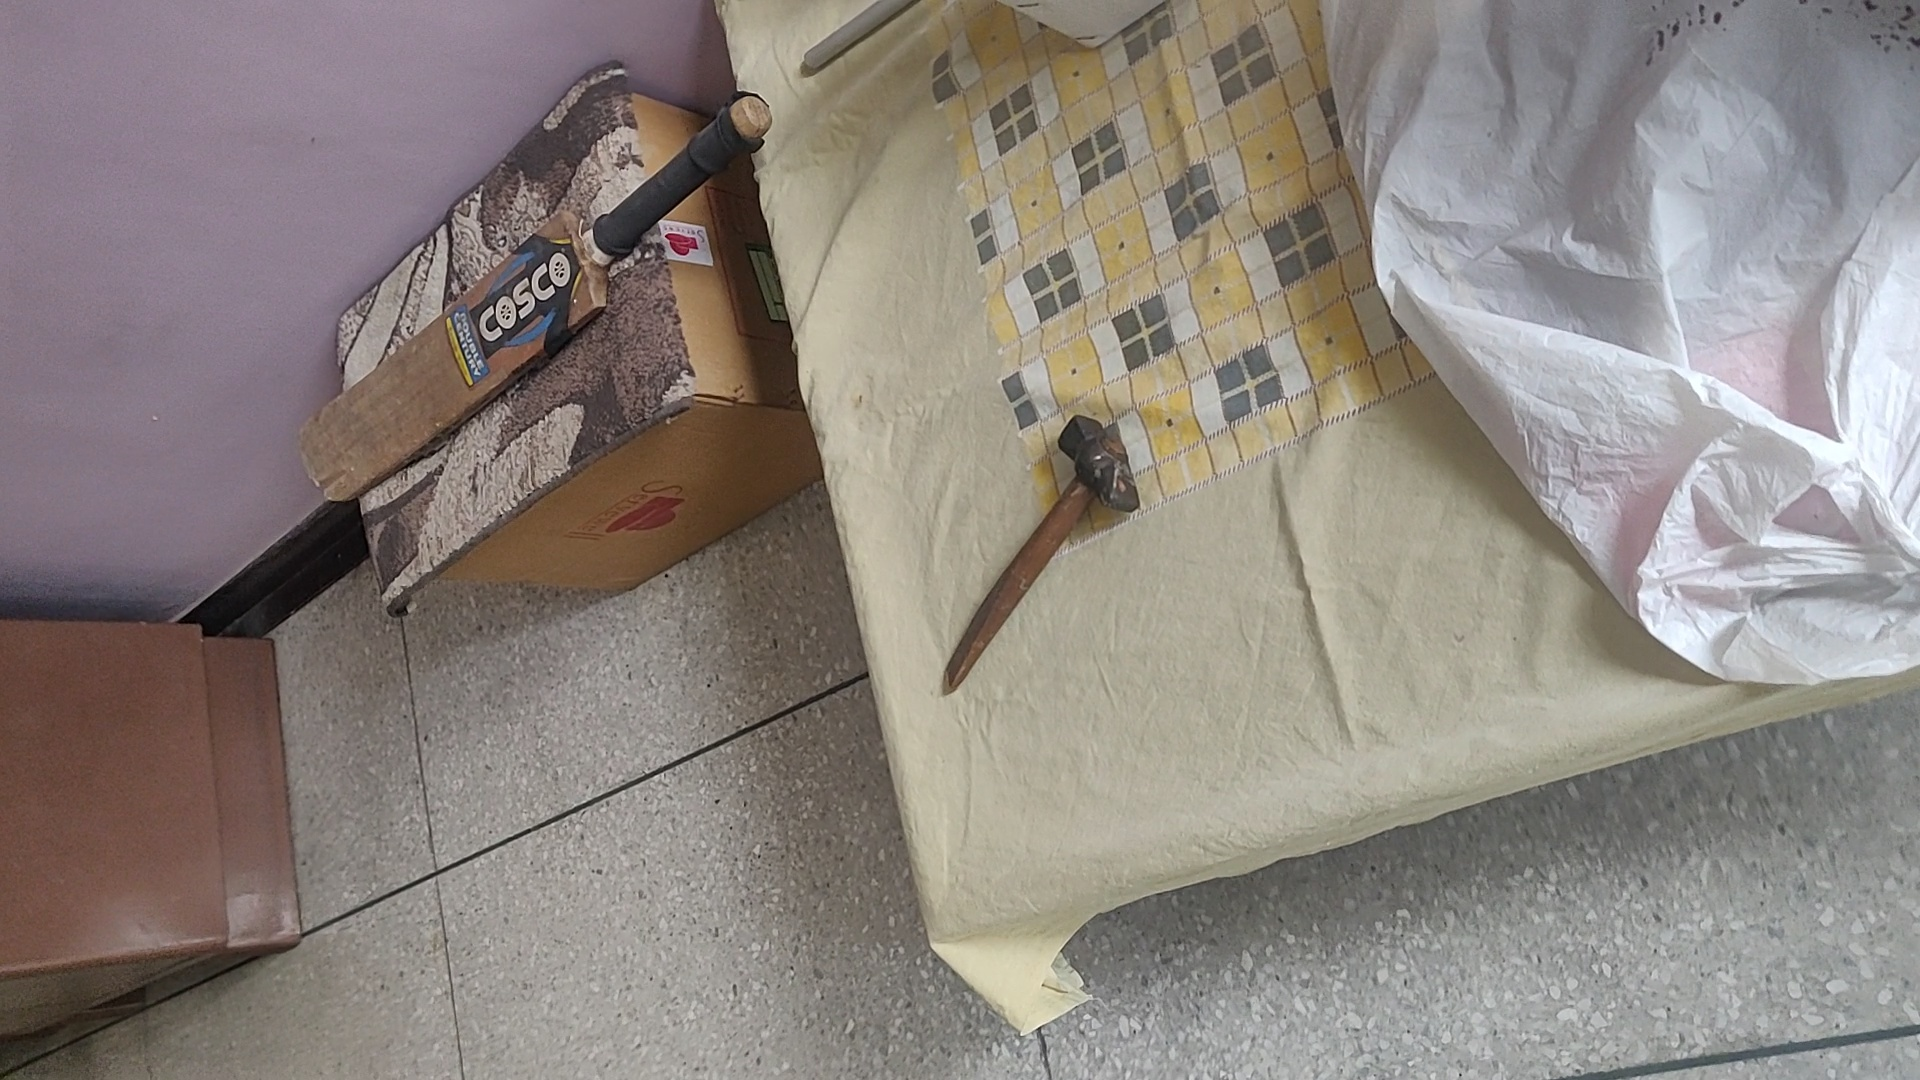hammer: (939, 410, 1145, 694)
